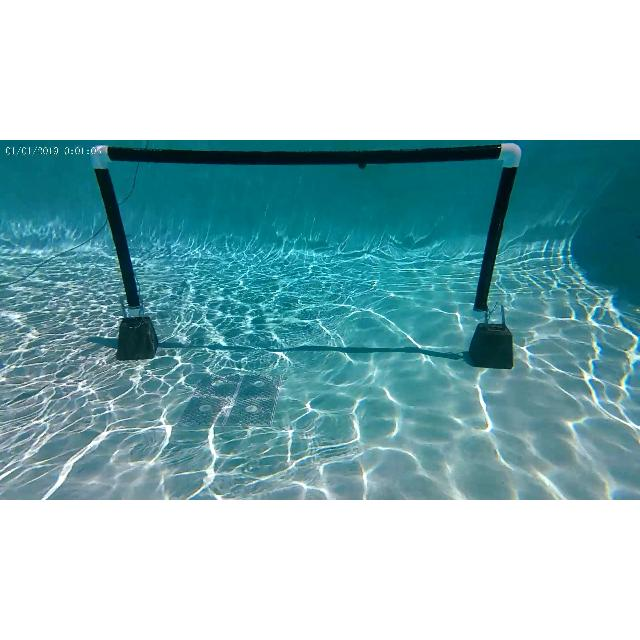prequal gate: (88, 144, 522, 320)
prequal gate leg l: (84, 144, 160, 364)
prequal gate leg r: (467, 142, 518, 370)
